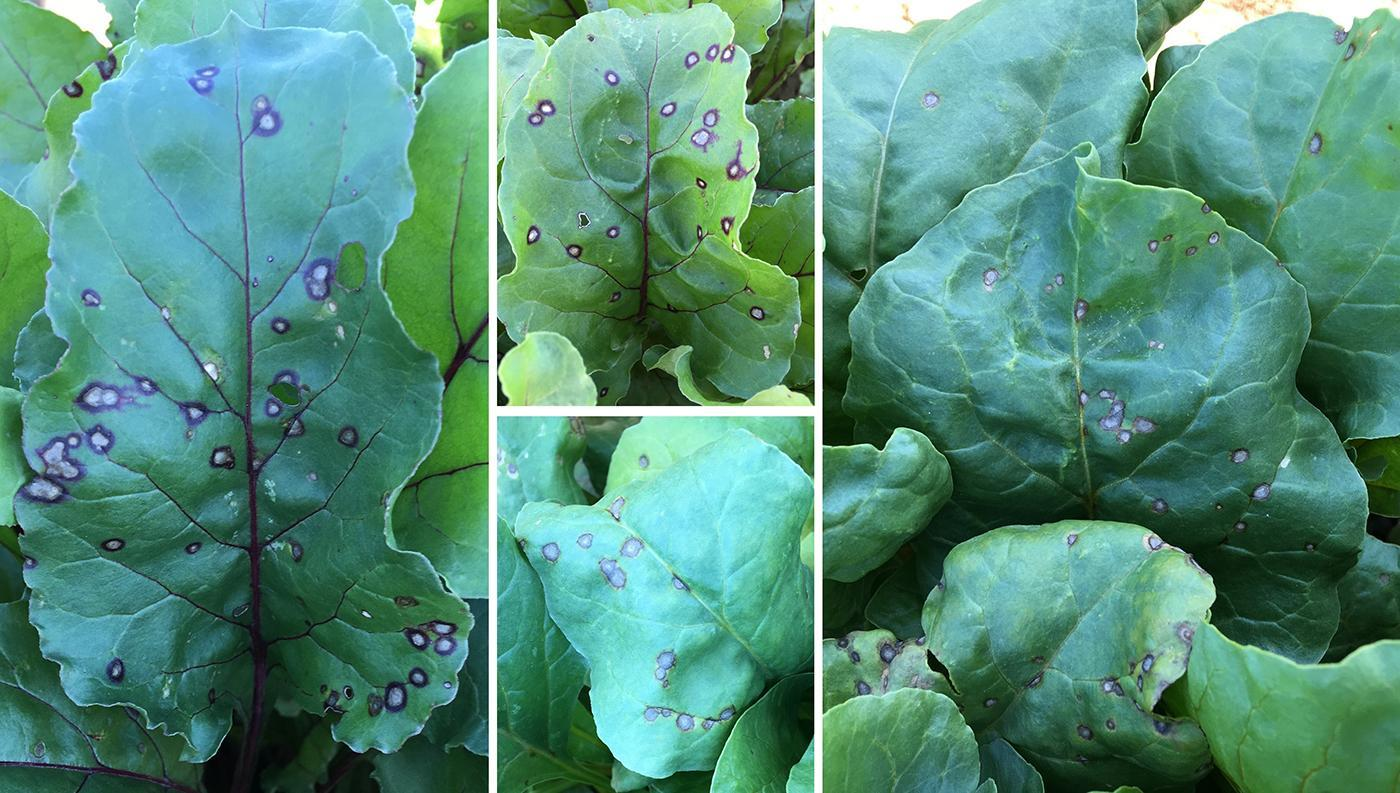black-spot: (29, 392, 249, 608), (641, 22, 756, 216)
